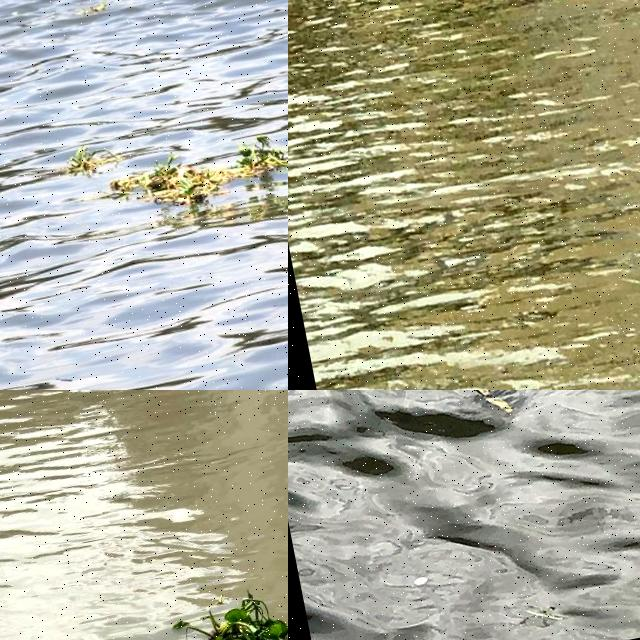water-hyacinth: (109, 130, 289, 211), (178, 593, 289, 640)
